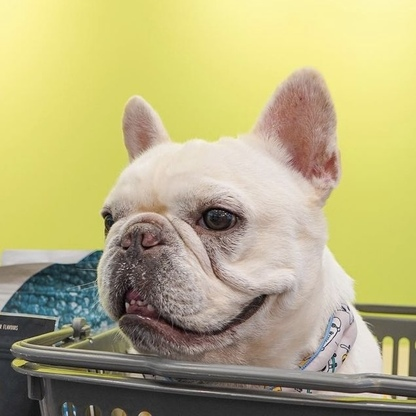bulldog: (89, 66, 389, 377)
